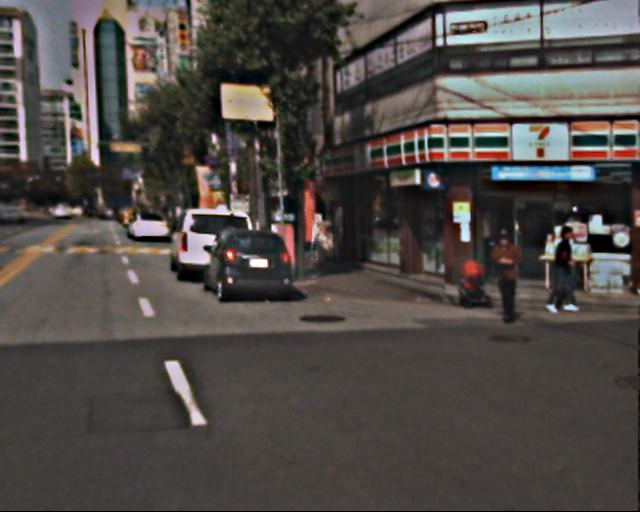person: (488, 232, 534, 326), (546, 227, 589, 321)
